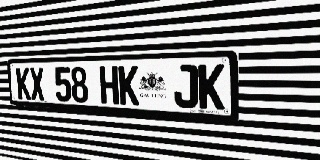5: (55, 67, 72, 102)
8: (70, 67, 88, 103)
H: (99, 66, 119, 104)
J: (174, 65, 198, 109)
K: (198, 64, 224, 110), (118, 66, 139, 105), (16, 68, 31, 100)
X: (29, 67, 45, 101)
